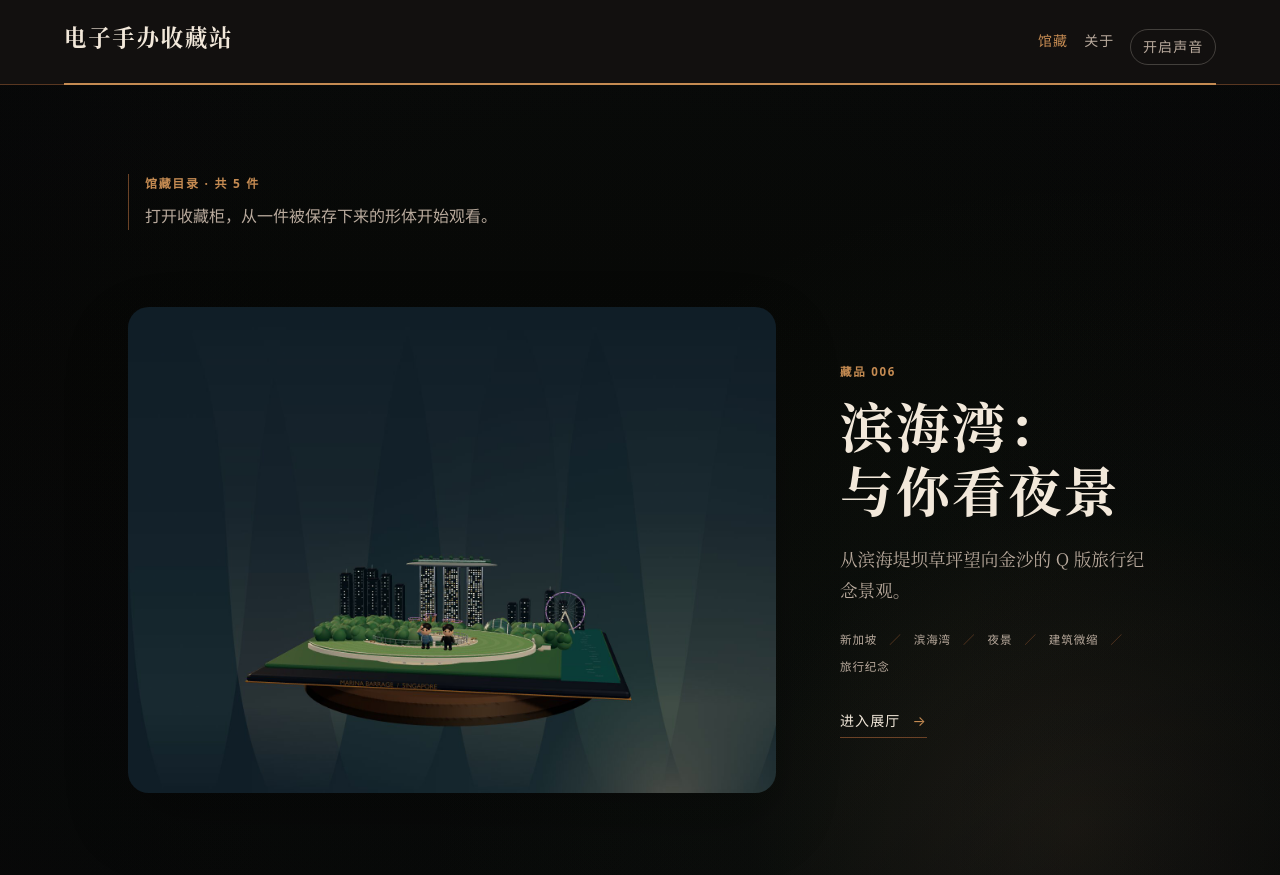
Test case: route-aware audio integration › keeps stored intent and manual controls when autoplay restore is blocked
Click the button "开启声音". click: (1173, 47)
box: [1130, 29, 1216, 65]
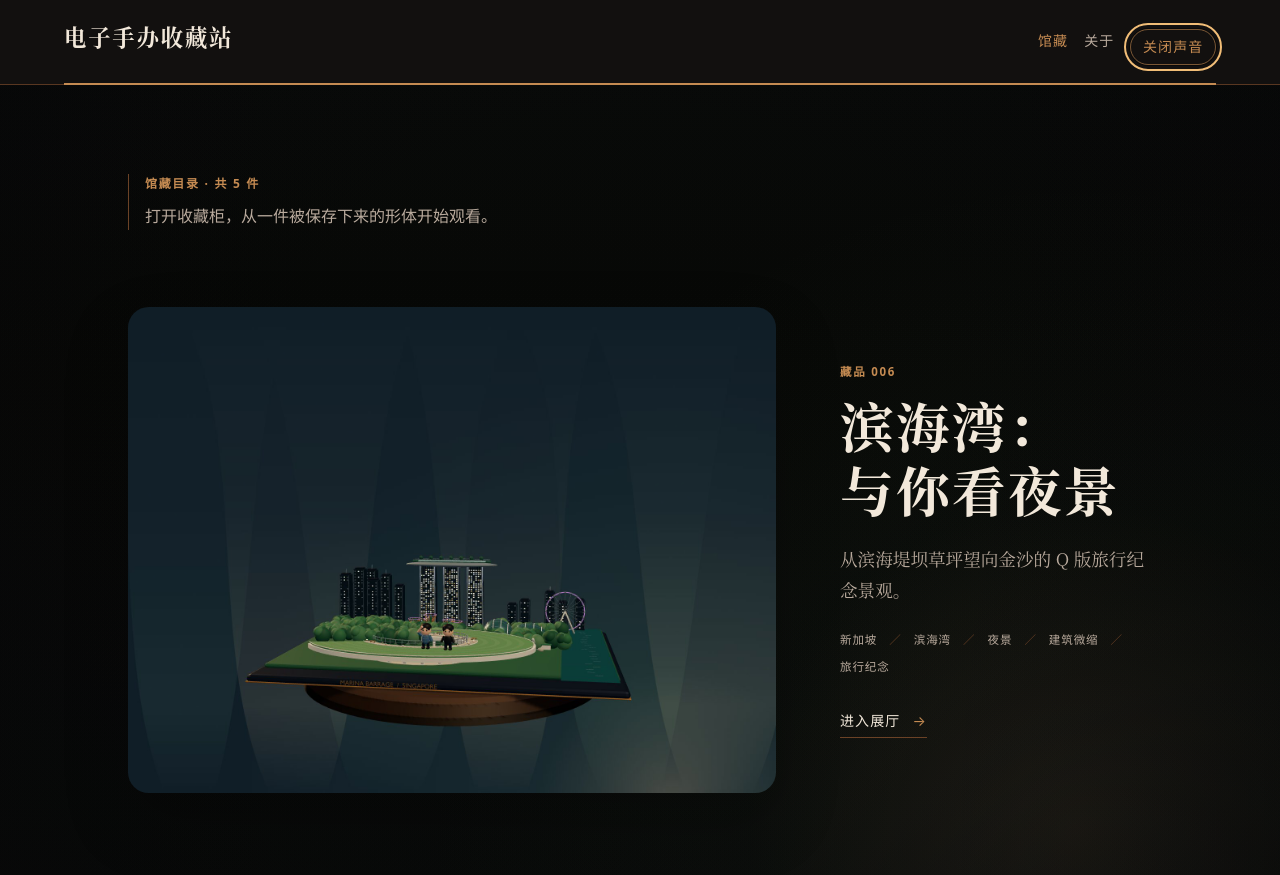
Check: the button "关闭声音" is shown, box [1130, 29, 1216, 65]
